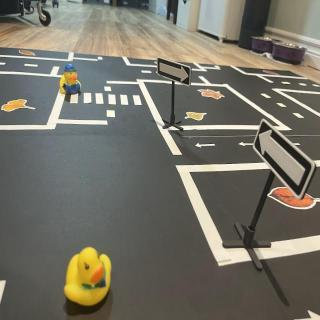duck_regular: (63, 245, 114, 309)
duck_specialty: (60, 63, 84, 98)
road_crosswalk: (68, 91, 144, 109)
road_oneway: (288, 304, 320, 320), (196, 139, 217, 151), (237, 139, 257, 150)
sign_oneway_left: (254, 123, 318, 199)
sign_oneway_right: (157, 60, 193, 87)
